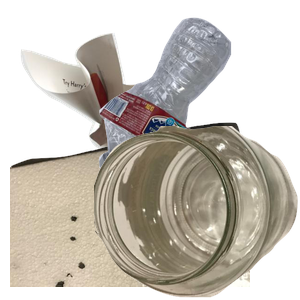glass: (94, 126, 300, 300)
paper: (18, 30, 213, 210)
plastic: (96, 15, 300, 184)
trash: (10, 120, 250, 300)
